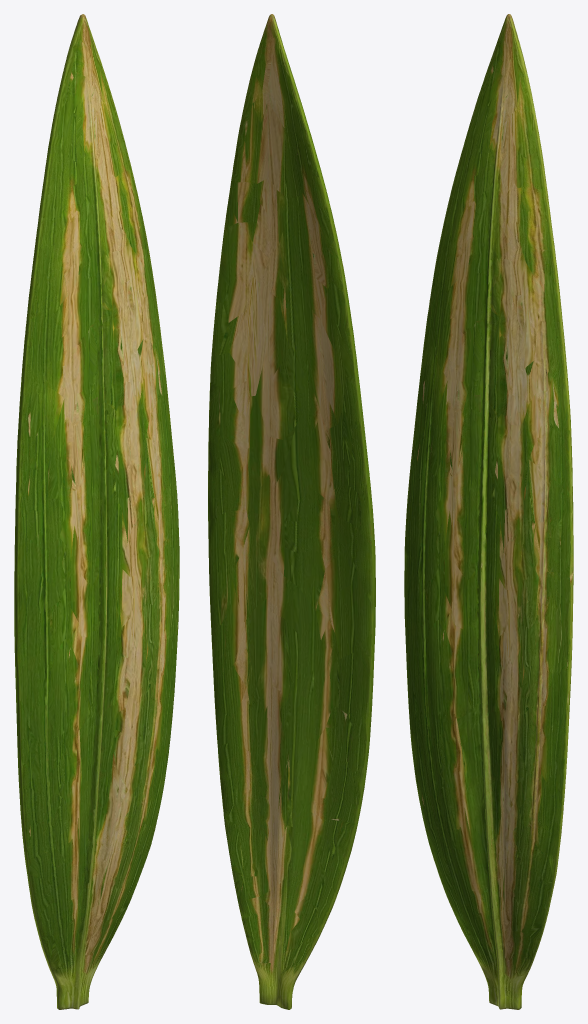
The model's file is rice_bacterial_leaf_blight.glb.
The picture shows the model from 3 angles, left to right: view 1: azimuth 30°, elevation 25°; view 2: azimuth 150°, elevation 25°; view 3: azimuth 330°, elevation 25°; orthographic projection.
Parts seen in each view (by area): view 1: rice_bacterial_leaf_blight; view 2: rice_bacterial_leaf_blight; view 3: rice_bacterial_leaf_blight.
Boxes of the visible parts, x1,y1,x2,y2 form: rice_bacterial_leaf_blight: [14, 14, 179, 1009]; rice_bacterial_leaf_blight: [208, 14, 375, 1009]; rice_bacterial_leaf_blight: [404, 14, 573, 1009].
Bounding box in the file's own units: 0.1734 × 0.9999 × 0.0571.
1 material, 1 textured.
